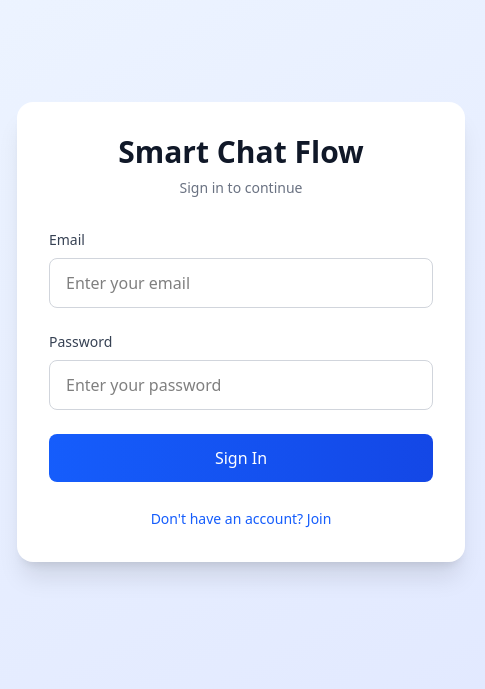
Test: Auth Component › Join Mode › validates missing full name
This screenshot has width=485, height=689.
Click the button "Don't have an account? Join". click: (241, 519)
box: [151,509,331,529]
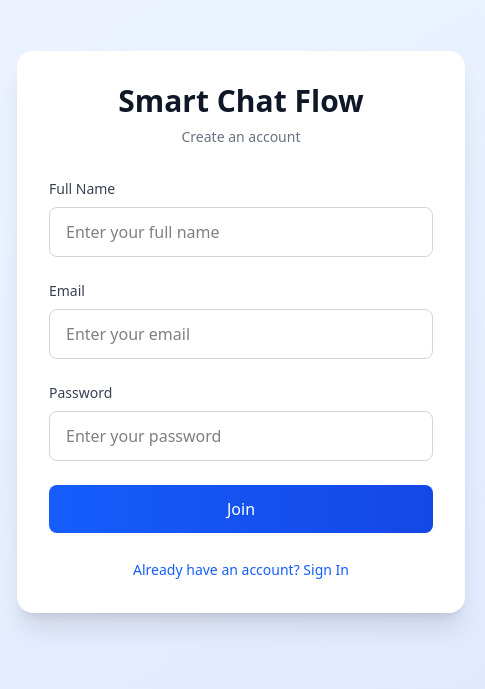
Type "test@example.com" into the field labelled "Email". click: (241, 334)
box: [49,309,433,359]
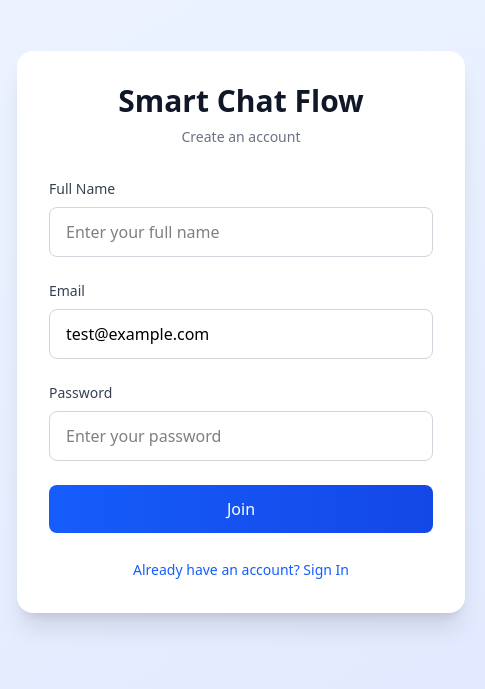
Type "password123" into the password field labelled "Password". click: (241, 436)
box: [49,411,433,461]
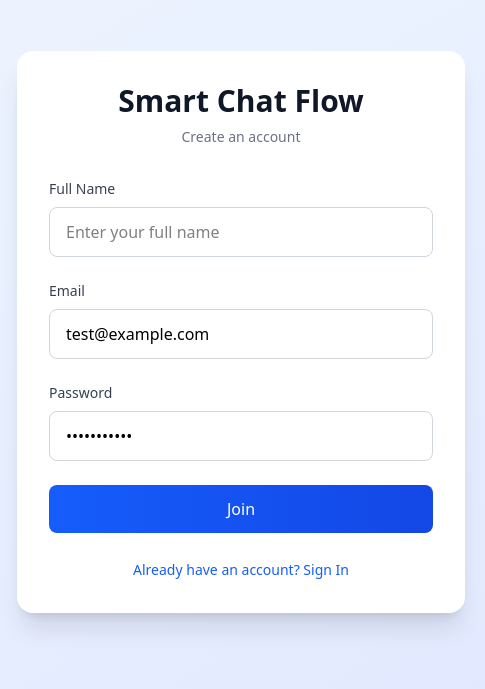
Click the button "Join". click: (241, 509)
box: [49,485,433,533]
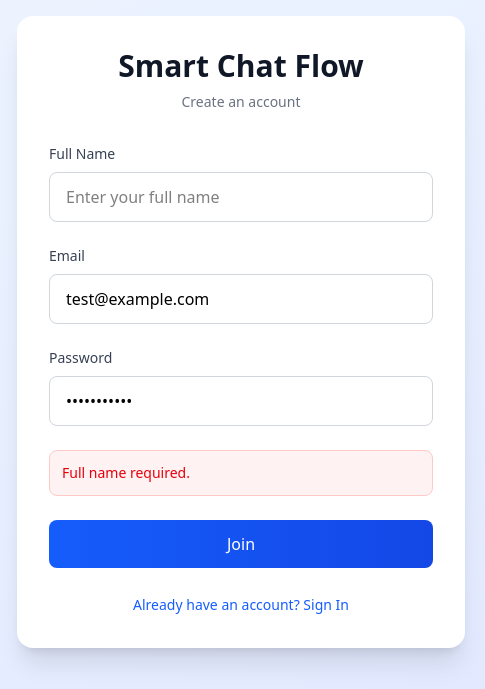
Check: the text "Full name required." is shown, box [62,463,190,482]
